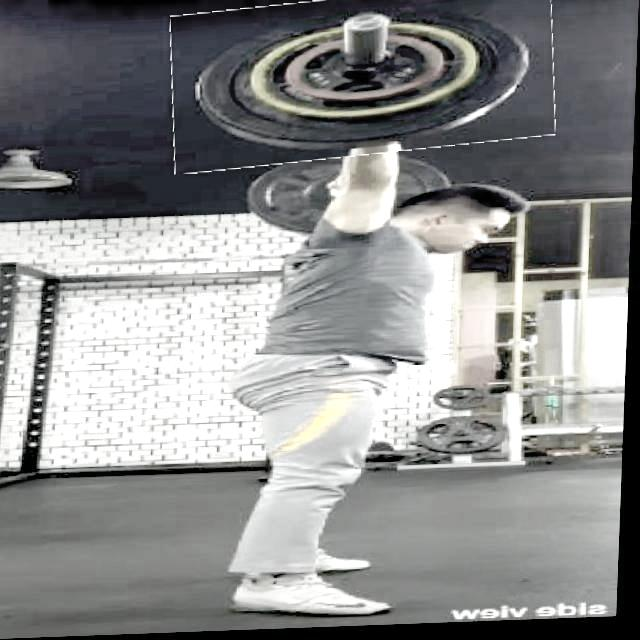barbell: (168, 1, 559, 170)
